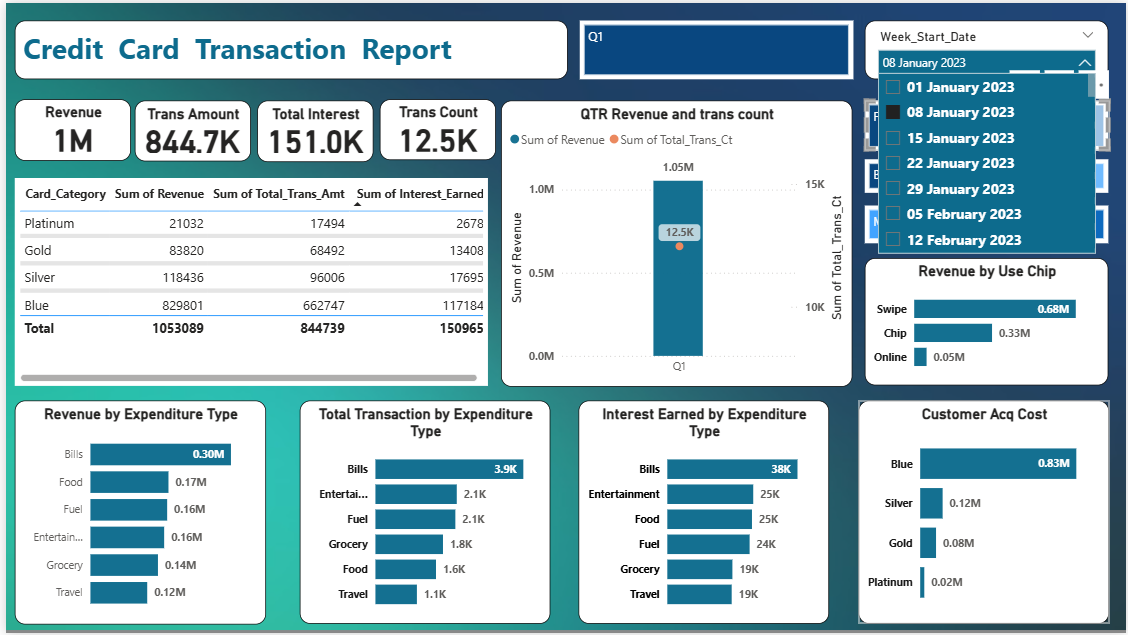

The dashboard page shown, as its layout file describes it:
{"tool":"powerbi","page":{"name":"cc Transaction","canvas":[1280,720],"ordinal":0},"visuals":[{"type":"textbox","box":[9.7,19.3,632.2,67.6],"z":0},{"type":"lineStackedColumnComboChart","title":"QTR Revenue and trans count","fields":{"Category":["ccdb cc_detail.Qtr"],"Y":["Sum(ccdb cc_detail.Revenue)"],"Y2":["Sum(ccdb cc_detail.Total_Trans_Ct)"]},"box":[565.8,111,401.7,326.9],"z":1000},{"type":"barChart","title":" Revenue by Expenditure Type","fields":{"Y":["Sum(ccdb cc_detail.Revenue)"],"Category":["ccdb cc_detail.Exp_Type"]},"box":[9.7,453.6,287.1,255.8],"z":2000},{"type":"barChart","title":"Interest Earned by Expenditure Type","fields":{"Category":["ccdb cc_detail.Exp_Type"],"Y":["Sum(ccdb cc_detail.Interest_Earned)"]},"box":[654.5,454.2,286.8,255.2],"z":3000},{"type":"barChart","title":"Customer Acq Cost","fields":{"Y":["Sum(ccdb cc_detail.Revenue)"],"Category":["ccdb cc_detail.Card_Category"]},"box":[974.3,454.2,286.8,255.2],"z":4000},{"type":"barChart","title":" Revenue by Use Chip","fields":{"Y":["Sum(ccdb cc_detail.Revenue)"],"Category":["ccdb cc_detail.Use_Chip"]},"box":[982,292,278.7,146],"z":5000},{"type":"tableEx","fields":{"Values":["ccdb cc_detail.Card_Category","Sum(ccdb cc_detail.Revenue)","Sum(ccdb cc_detail.Total_Trans_Amt)","Sum(ccdb cc_detail.Interest_Earned)"]},"box":[9.7,200.3,540.5,237.7],"z":6000},{"type":"card","title":"Revenue","fields":{"Values":["Sum(ccdb cc_detail.Revenue)"]},"box":[9.4,109.4,133,70.3],"z":7000},{"type":"card","title":"Trans Amount","fields":{"Values":["Sum(ccdb cc_detail.Total_Trans_Amt)"]},"box":[147.2,111,132.7,70],"z":8000},{"type":"card","title":"Total Interest","fields":{"Values":["Sum(ccdb cc_detail.Interest_Earned)"]},"box":[287.5,110.9,133,70.3],"z":9000},{"type":"card","title":"Trans Count","fields":{"Values":["Sum(ccdb cc_detail.Total_Trans_Ct)"]},"box":[427.1,109.8,133,70],"z":10000},{"type":"slicer","fields":{"Values":["ccdb cc_detail.Week_Start_Date"]},"box":[982,19.3,278.7,67.6],"z":11000},{"type":"treemap","fields":{"Group":["ccdb cc_detail.Qtr"],"Values":["Avg(ccdb cust_detail.Client_Num)"]},"box":[655.1,19.3,312.5,67.6],"z":12000},{"type":"treemap","fields":{"Group":["ccdb cust_detail.Gender"],"Values":["Avg(ccdb cust_detail.Client_Num)"]},"box":[982,111,278.7,57.9],"z":13000},{"type":"treemap","fields":{"Group":["ccdb cc_detail.Card_Category"],"Values":["Avg(ccdb cust_detail.Client_Num)"]},"box":[982,178.6,278.7,38.6],"z":14000},{"type":"treemap","fields":{"Group":["ccdb cust_detail.IncomeGroup"],"Values":["Avg(ccdb cust_detail.Client_Num)"]},"box":[982,231.6,278.7,43.4],"z":15000},{"type":"barChart","title":"Total Transaction by Expenditure Type","fields":{"Category":["ccdb cc_detail.Exp_Type"],"Y":["Sum(ccdb cc_detail.Total_Trans_Ct)"]},"box":[336.2,454.2,286.8,255.2],"z":16000}]}

Visuals, with their boxes in screenshot pixels (x1, y1, x2, y2), scaled from the page's 1280x720 canvas onto the 1128x635 screenshot:
textbox: l=9, t=17, r=566, b=77
"QTR Revenue and trans count" lineStackedColumnComboChart: l=499, t=98, r=853, b=386
" Revenue by Expenditure Type" barChart: l=9, t=400, r=262, b=626
"Interest Earned by Expenditure Type" barChart: l=577, t=401, r=830, b=626
"Customer Acq Cost" barChart: l=859, t=401, r=1111, b=626
" Revenue by Use Chip" barChart: l=865, t=258, r=1111, b=386
tableEx - ccdb cc_detail.Card_Category x Sum(ccdb cc_detail.Revenue): l=9, t=177, r=485, b=386
"Revenue" card: l=8, t=96, r=125, b=158
"Trans Amount" card: l=130, t=98, r=247, b=160
"Total Interest" card: l=253, t=98, r=371, b=160
"Trans Count" card: l=376, t=97, r=494, b=159
slicer - ccdb cc_detail.Week_Start_Date: l=865, t=17, r=1111, b=77
treemap - ccdb cc_detail.Qtr x Avg(ccdb cust_detail.Client_Num): l=577, t=17, r=853, b=77
treemap - ccdb cust_detail.Gender x Avg(ccdb cust_detail.Client_Num): l=865, t=98, r=1111, b=149
treemap - ccdb cc_detail.Card_Category x Avg(ccdb cust_detail.Client_Num): l=865, t=158, r=1111, b=192
treemap - ccdb cust_detail.IncomeGroup x Avg(ccdb cust_detail.Client_Num): l=865, t=204, r=1111, b=243
"Total Transaction by Expenditure Type" barChart: l=296, t=401, r=549, b=626
